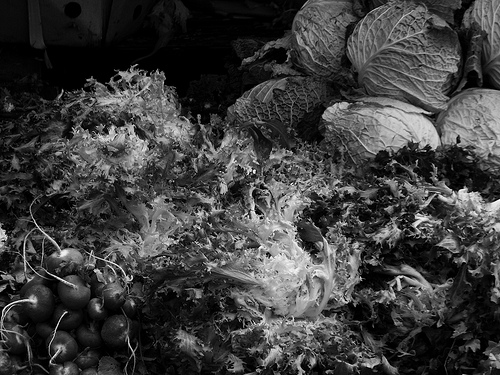cabbage: (341, 0, 469, 109), (320, 97, 440, 165), (439, 84, 499, 177)
